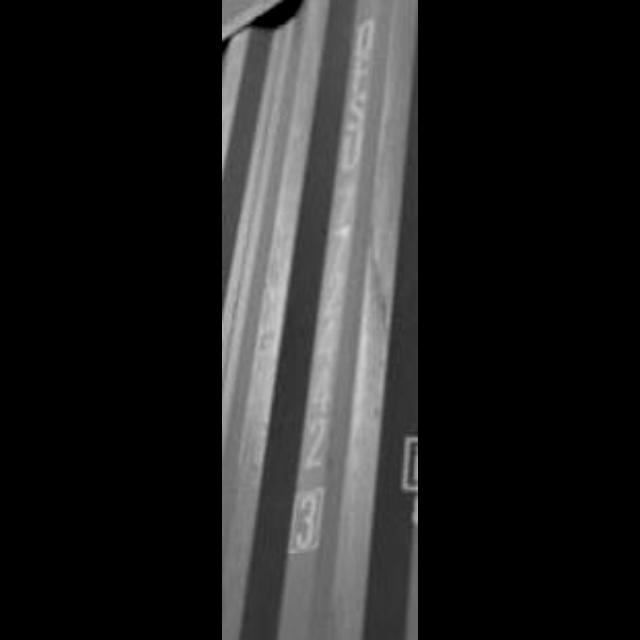2: (290, 416, 342, 476), (312, 266, 350, 322)
3: (285, 493, 333, 553)
4: (296, 366, 348, 422), (303, 317, 351, 368)
7: (314, 222, 364, 286), (318, 180, 368, 228)
d: (341, 8, 385, 58)
e: (344, 49, 381, 96)
s: (338, 88, 374, 140)
u: (332, 128, 368, 174)
